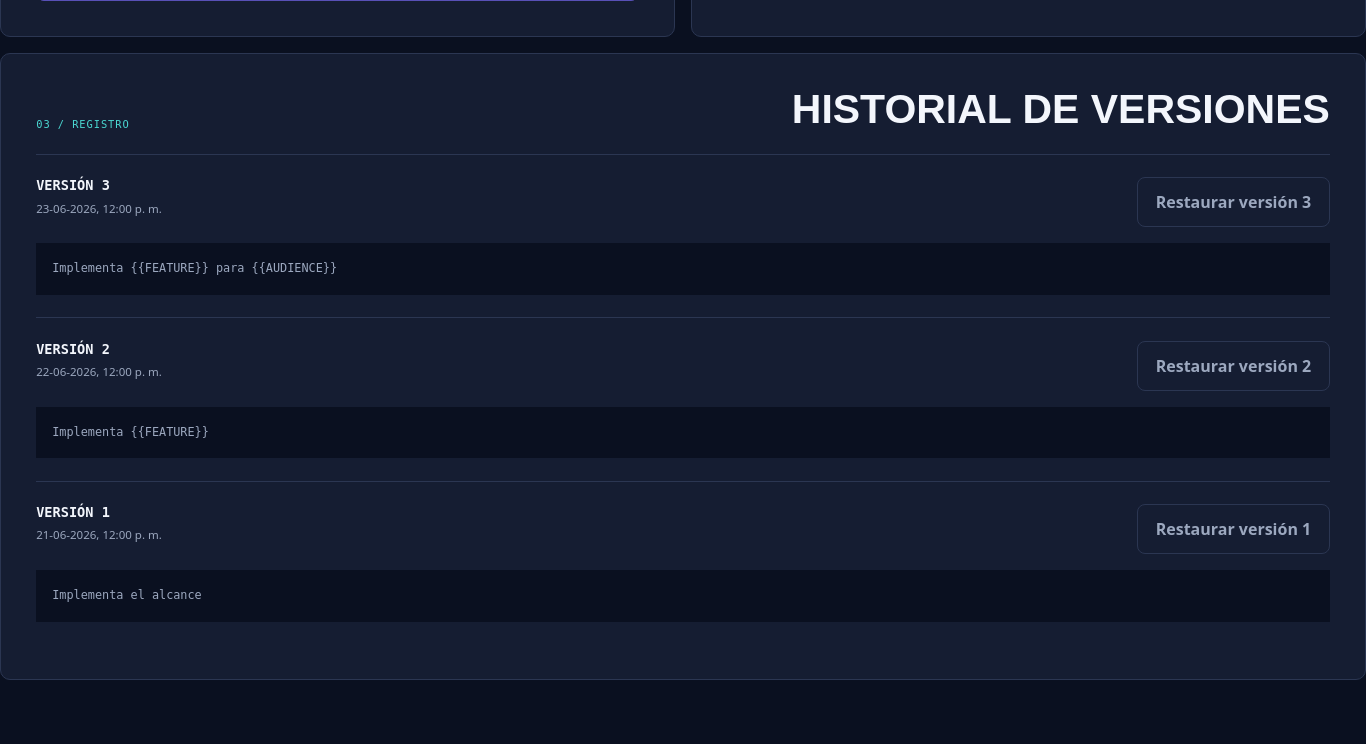
Test: TemplateEditor › explica que restaurar crea una versión nueva y permite cancelar
(page scrolled)
What coordinates should you click on to do the following:
click the button "Restaurar versión 2"
I would click on:
 (1233, 366)
Its box is [1137,341,1330,391].
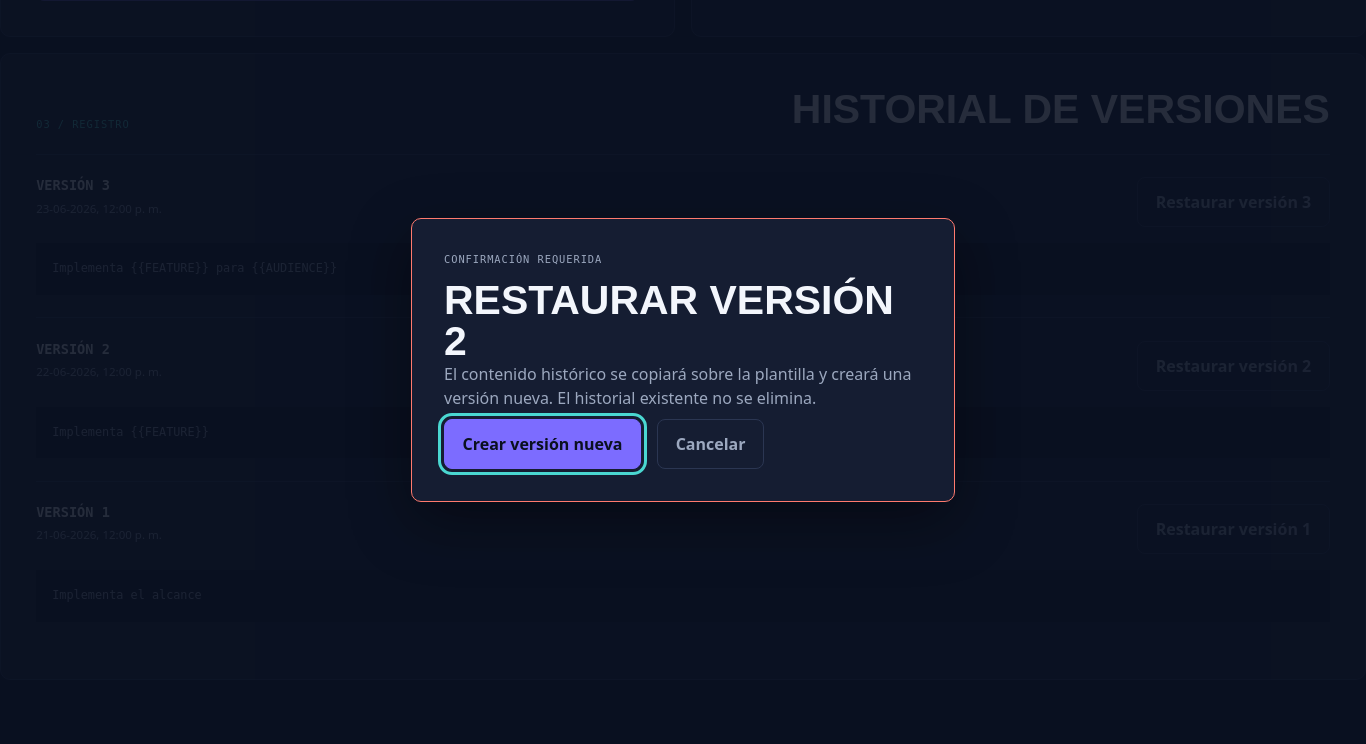
Expected: the dialog "Restaurar versión 2" shows "creará una versión nueva", [444,363,911,409]
What coordinates should you click on to do the following:
click the button "Cancelar"
I would click on:
 (710, 444)
Its box is [657,419,764,469].
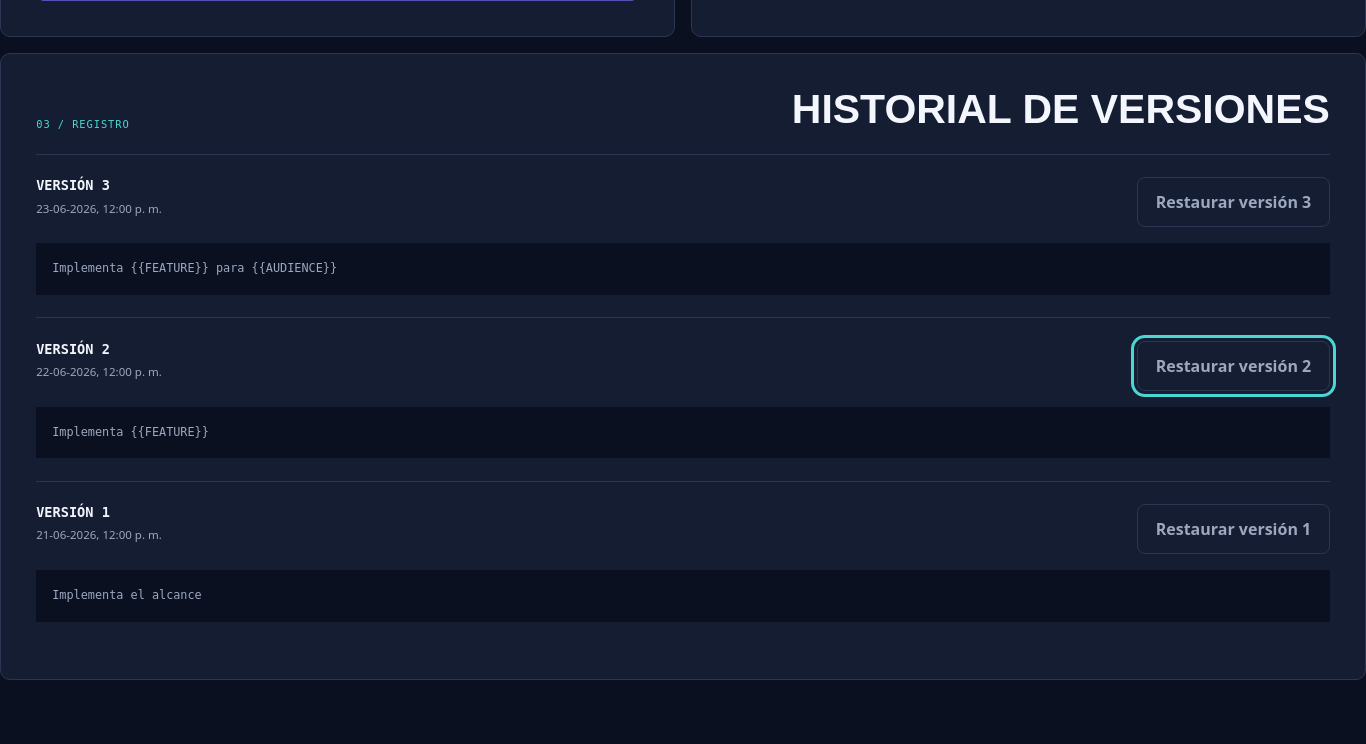
Expected: the dialog is gone
